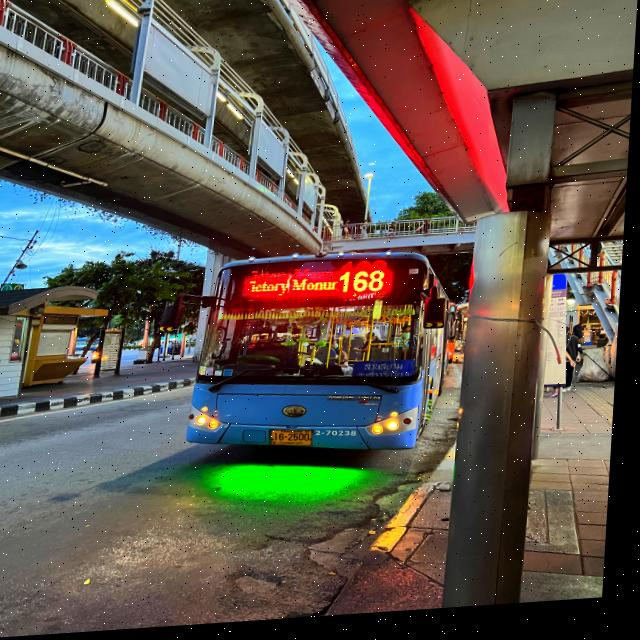BMTA-bus: (189, 253, 452, 469)
Bus-Line-Number: (341, 273, 391, 301)
Destination-Sign-Normal: (356, 363, 422, 388)
